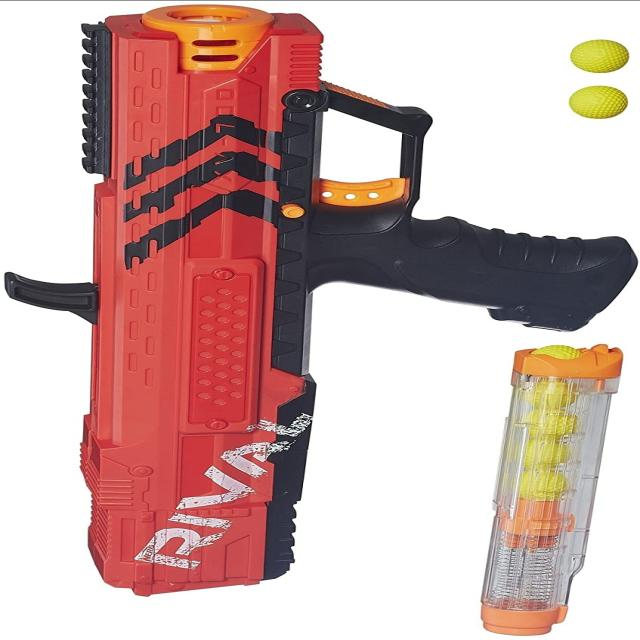Nerf gun: (4, 6, 628, 599)
